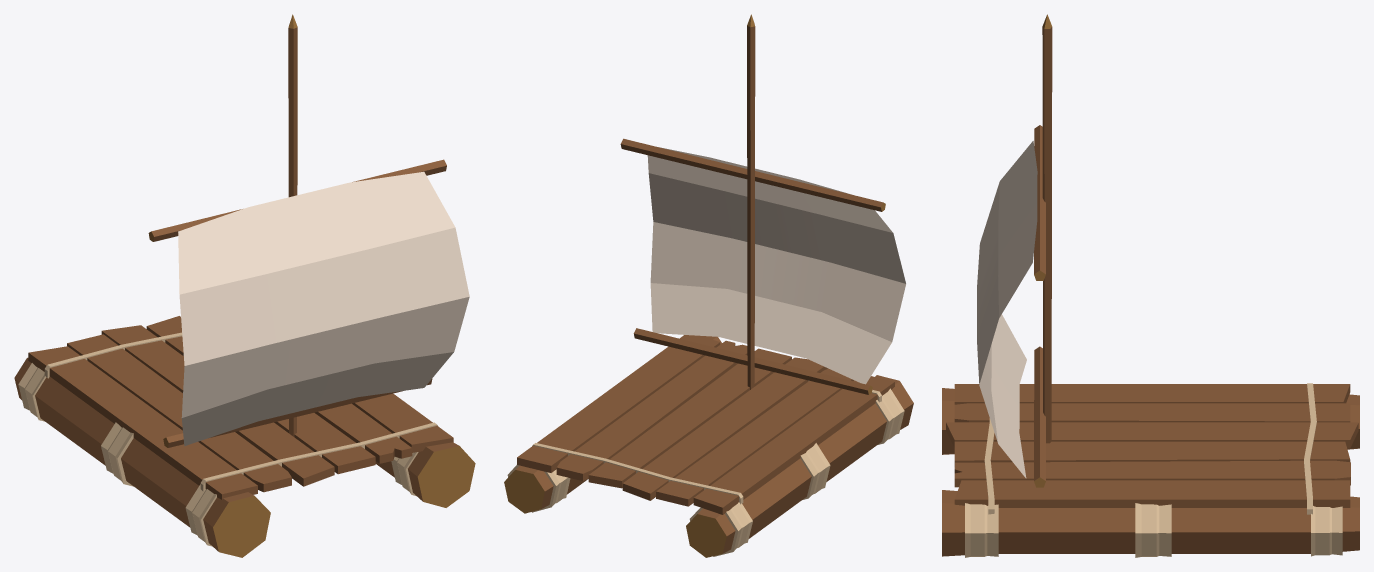
The model's file is pirates_raft-flag.fbx.
3 views of the same model, side by side, from view 1: azimuth 30°, elevation 25°; view 2: azimuth 150°, elevation 25°; view 3: azimuth 270°, elevation 25° (orthographic). The views are drawn at different scales.
Parts seen in each view (by area): view 1: pirates_raft_flag; view 2: pirates_raft_flag; view 3: pirates_raft_flag.
Boxes of the visible parts, x1,y1,x2,y2 form: pirates_raft_flag: (14, 14, 475, 557); pirates_raft_flag: (504, 14, 913, 557); pirates_raft_flag: (942, 14, 1359, 557).
Size of the model in its own units: 127 by 200 by 154.
